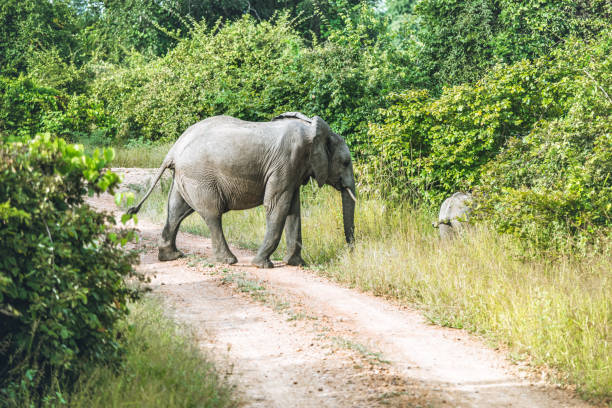africanelephant: (297, 116, 361, 213)
